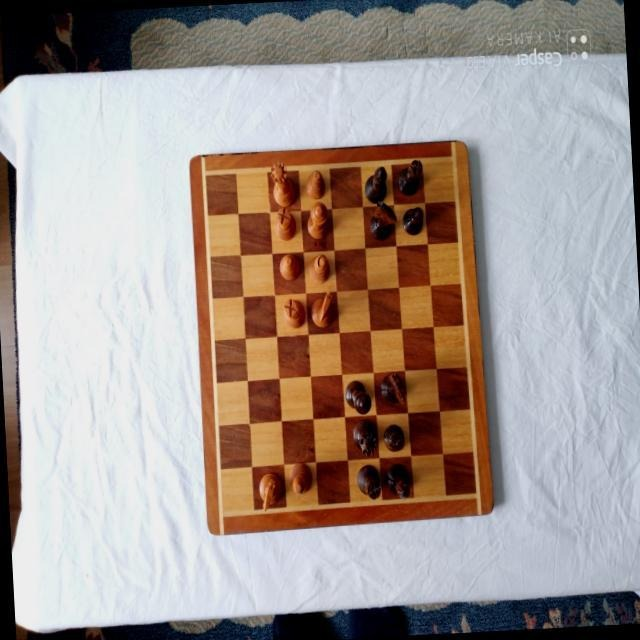black-bishop: (386, 462, 414, 499), (363, 167, 389, 204)
black-king: (343, 380, 372, 415)
black-knight: (376, 371, 408, 407), (368, 202, 396, 241)
black-pawn: (399, 205, 426, 238), (381, 422, 407, 453)
black-queen: (351, 421, 381, 455)
black-rook: (393, 158, 424, 196), (354, 465, 382, 499)
white-bishop: (289, 461, 315, 495), (308, 253, 332, 283)
white-king: (303, 203, 333, 240)
white-knight: (307, 289, 339, 331), (258, 470, 286, 509)
white-pawn: (304, 168, 327, 200), (277, 255, 302, 282)
white-queen: (269, 161, 298, 205)
white-rook: (274, 205, 298, 242), (281, 297, 307, 330)
